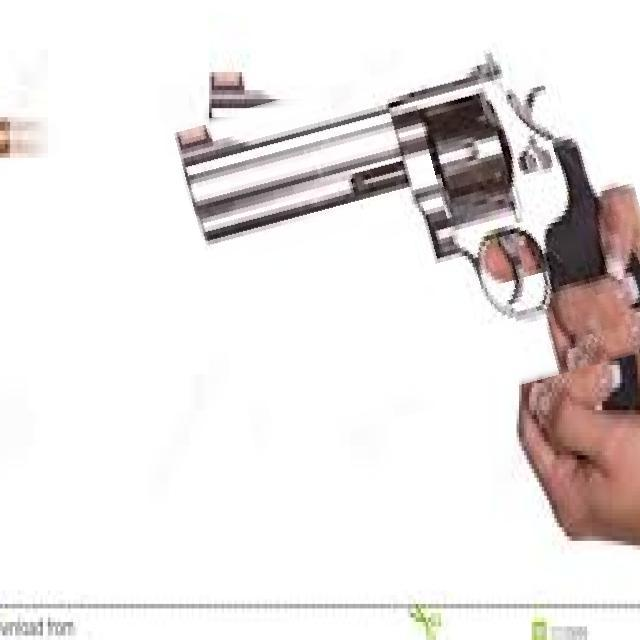Gun_Holder: (139, 66, 640, 492)
